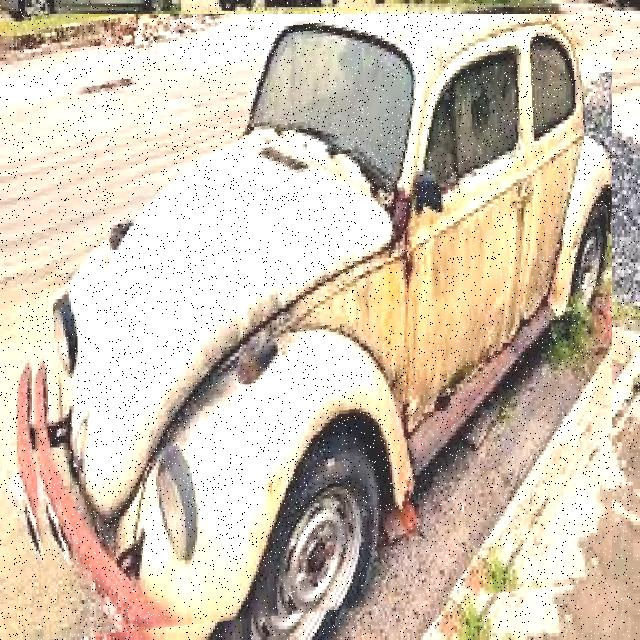car: (19, 15, 615, 640)
